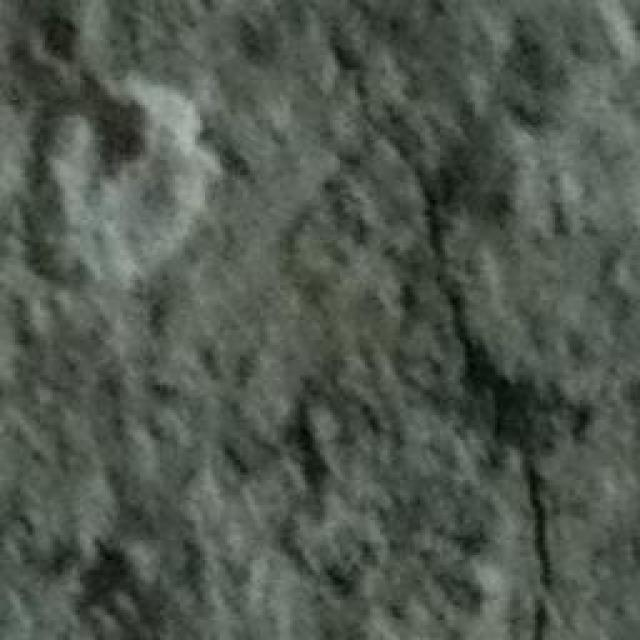Longitudinal: (312, 0, 581, 640)
